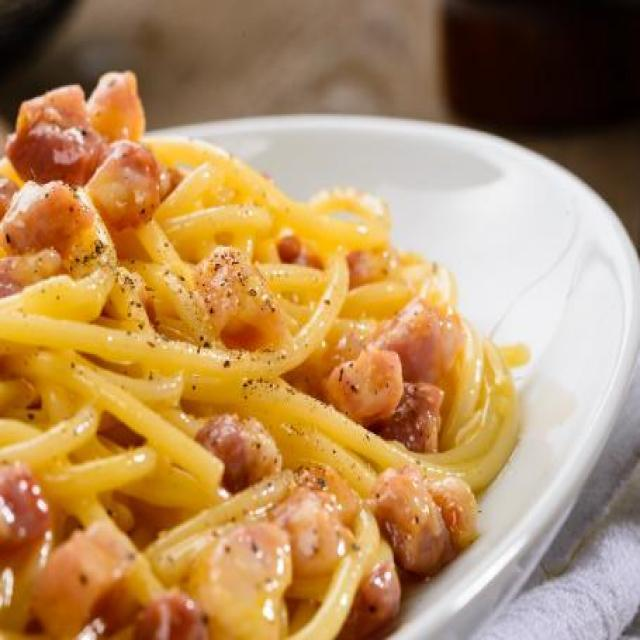Pasta with carbonara sauce: (4, 55, 514, 633)
